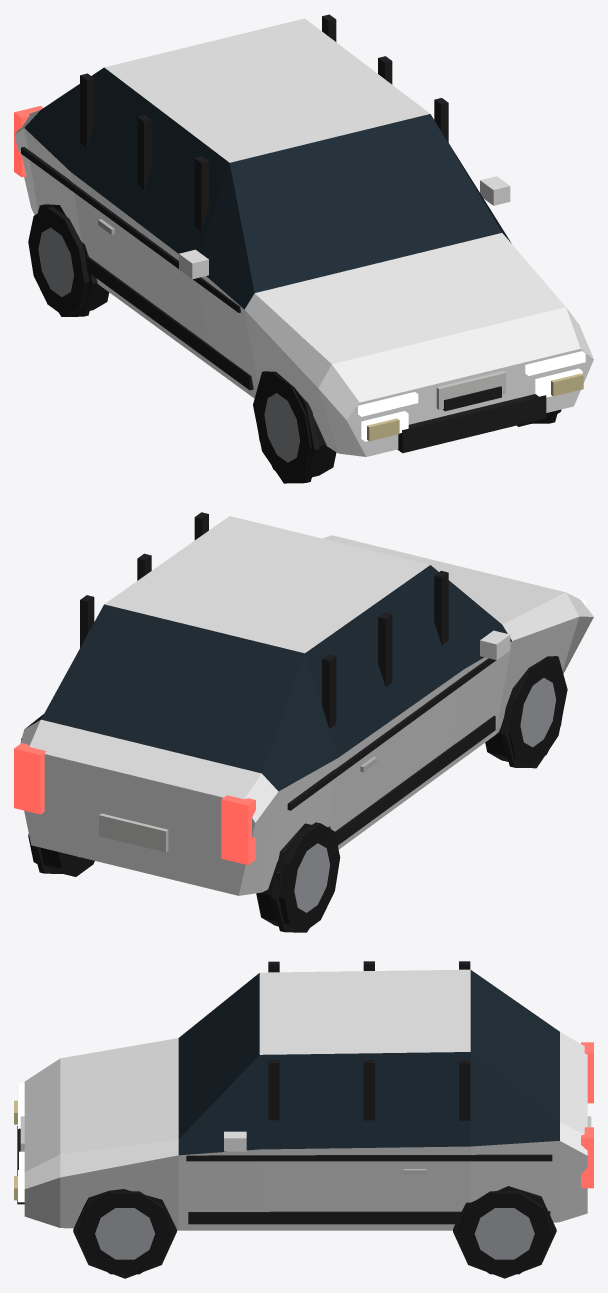
Rendered from car_c1.glb.
3 renders of one model, top to bottom at view 1: azimuth 30°, elevation 25°; view 2: azimuth 150°, elevation 25°; view 3: azimuth 270°, elevation 25°, orthographic. The views are drawn at different scales.
Visible parts, largest first — view 1: C1_Body, C1_Detail, C1_WheelsR, C1_WheelsF; view 2: C1_Body, C1_Detail, C1_WheelsR, C1_WheelsF; view 3: C1_Body, C1_Detail, C1_WheelsR, C1_WheelsF.
Part boxes in pixels (<box>): C1_Body: <box>14,18,593,456</box>; C1_Detail: <box>21,14,583,483</box>; C1_WheelsR: <box>28,206,109,316</box>; C1_WheelsF: <box>254,373,561,482</box>; C1_Body: <box>14,516,593,895</box>; C1_Detail: <box>21,512,567,932</box>; C1_WheelsR: <box>28,822,340,932</box>; C1_WheelsF: <box>485,657,566,766</box>; C1_Body: <box>17,969,593,1230</box>; C1_Detail: <box>14,961,591,1278</box>; C1_WheelsR: <box>457,1191,551,1274</box>; C1_WheelsF: <box>78,1191,172,1274</box>.
Bounding box in the file's own units: 1.9 × 1.48 × 3.57.
